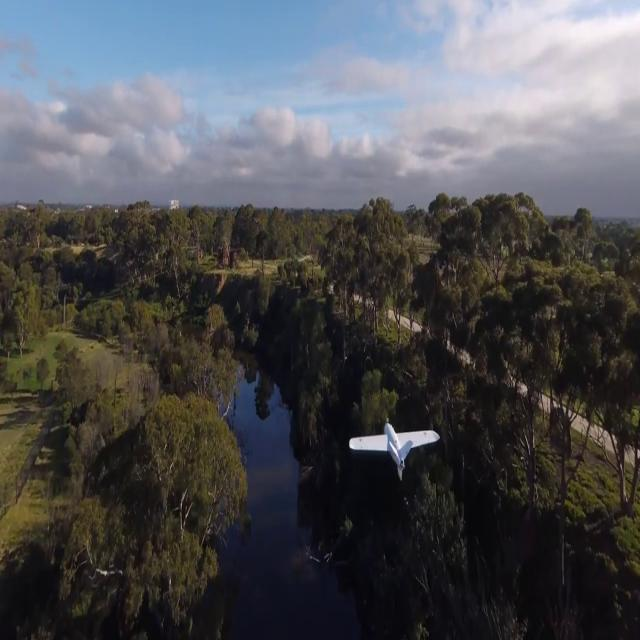iha: (373, 420, 403, 472)
